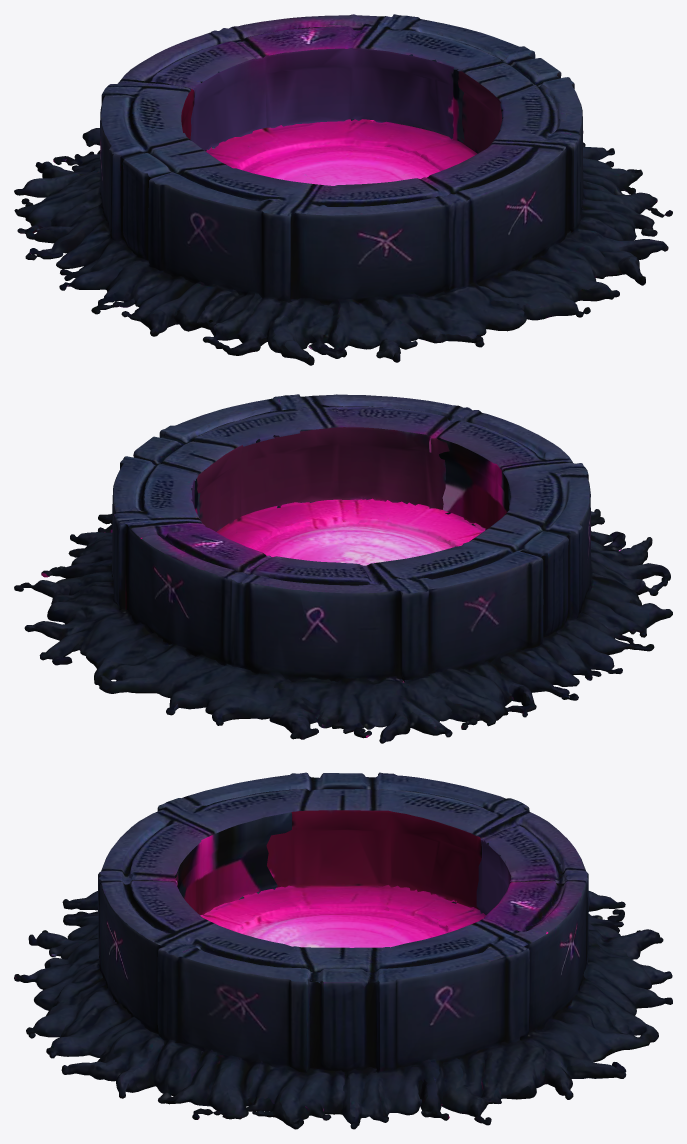
File: well-dais-generated-2026-05-17T17-44-58-015Z.medium.glb
3 renders of one model, top to bottom at view 1: azimuth 30°, elevation 25°; view 2: azimuth 150°, elevation 25°; view 3: azimuth 270°, elevation 25°, orthographic. The views are drawn at different scales.
Visible parts, largest first — view 1: temp_mesh.ply; view 2: temp_mesh.ply; view 3: temp_mesh.ply.
Boxes of the visible parts, bbox=[...] form: temp_mesh.ply: bbox=[14, 14, 672, 365]; temp_mesh.ply: bbox=[14, 394, 672, 743]; temp_mesh.ply: bbox=[14, 772, 672, 1129].
Bounding box in the file's own units: 1.97 × 0.3906 × 1.97.
1 material, 1 textured.
